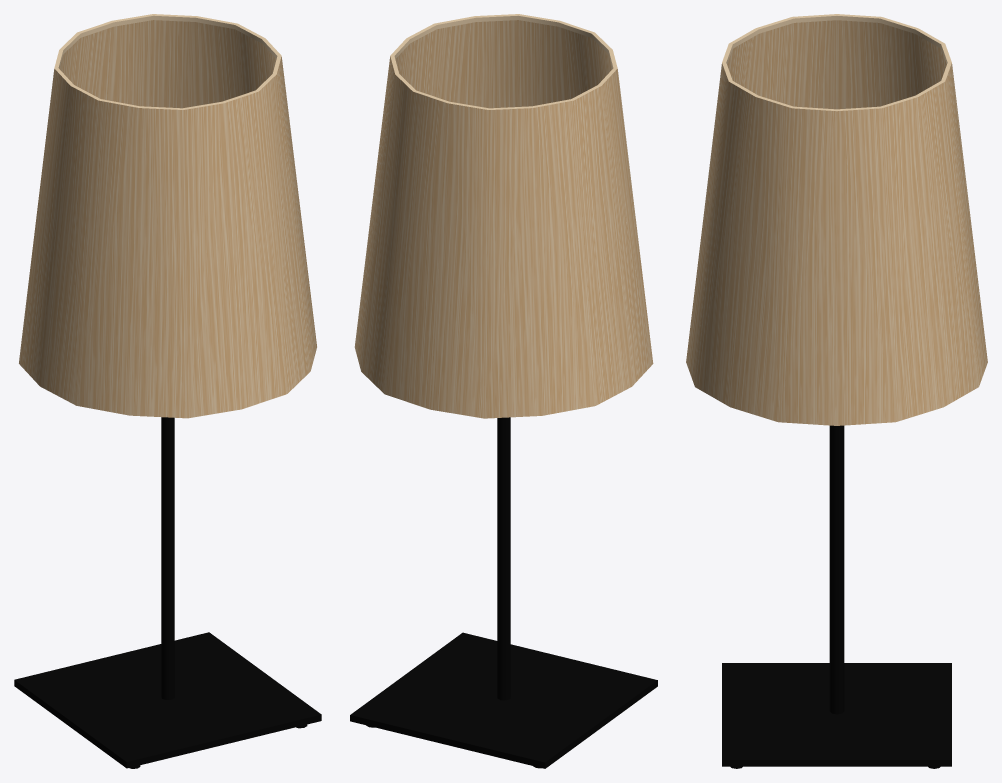
Rendered from Lamp.FBX.
3 renders of one model, left to right at view 1: azimuth 30°, elevation 25°; view 2: azimuth 150°, elevation 25°; view 3: azimuth 270°, elevation 25°, orthographic. The views are drawn at different scales.
Visible parts, largest first — view 1: Lamp; view 2: Lamp; view 3: Lamp.
Part boxes in pixels (x1,y1,x2,y2): Lamp: (14,14,321,768); Lamp: (350,14,657,768); Lamp: (686,14,987,768).
Bounding box in the file's own units: 8.27 × 20 × 8.27.
